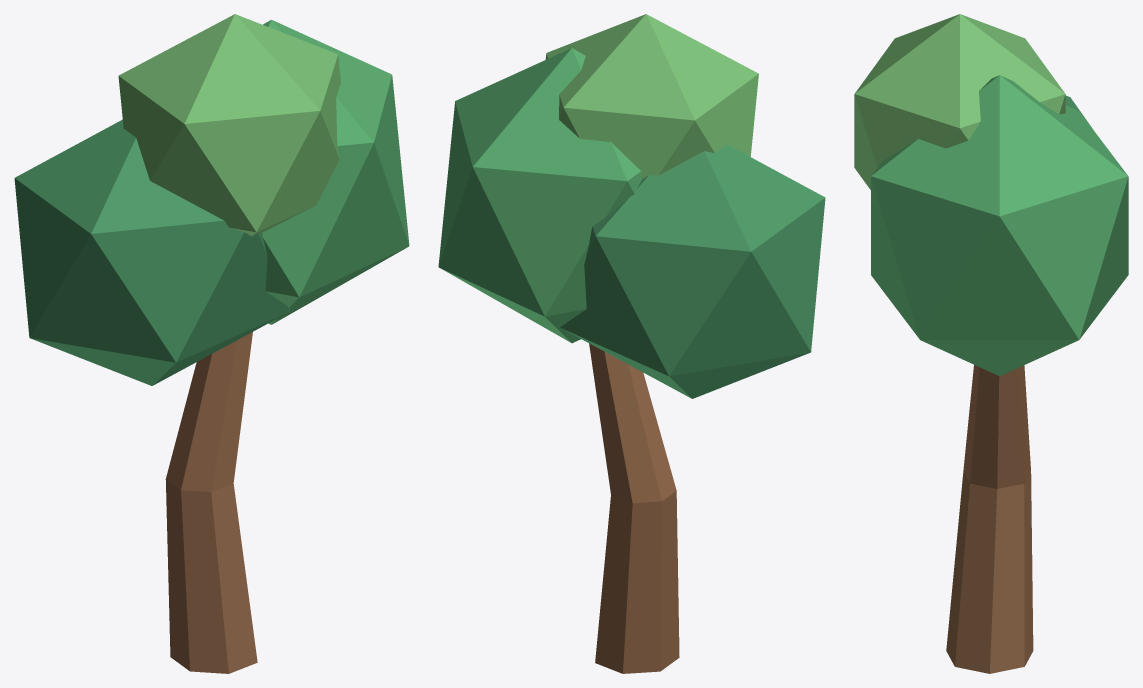
Rendered from LowPoly_Tree_B.fbx.
3 views of the same model, side by side, from view 1: azimuth 30°, elevation 25°; view 2: azimuth 150°, elevation 25°; view 3: azimuth 270°, elevation 25° (orthographic). The views are drawn at different scales.
Parts seen in each view (by area): view 1: Foliage.001, Foliage.003, Trunk.001, Foliage.002; view 2: Foliage.001, Foliage.002, Foliage.003, Trunk.001; view 3: Foliage.002, Trunk.001, Foliage.003.
Boxes of the visible parts, box(x1,y1,x2,y2) form: Foliage.001: box(14, 119, 289, 385); Foliage.003: box(118, 14, 340, 236); Trunk.001: box(165, 332, 257, 673); Foliage.002: box(262, 19, 409, 324); Foliage.001: box(560, 144, 825, 398); Foliage.002: box(438, 48, 641, 343); Foliage.003: box(545, 14, 758, 179); Trunk.001: box(589, 343, 679, 673); Foliage.002: box(871, 75, 1128, 376); Trunk.001: box(946, 365, 1033, 673); Foliage.003: box(854, 14, 1065, 189).
Bounding box in the file's own units: 1.68 × 2.86 × 1.1.
